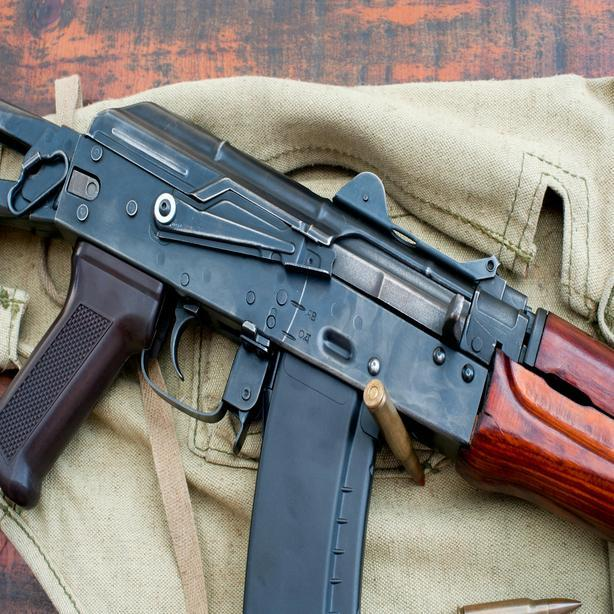Firearm: (0, 89, 614, 614)
